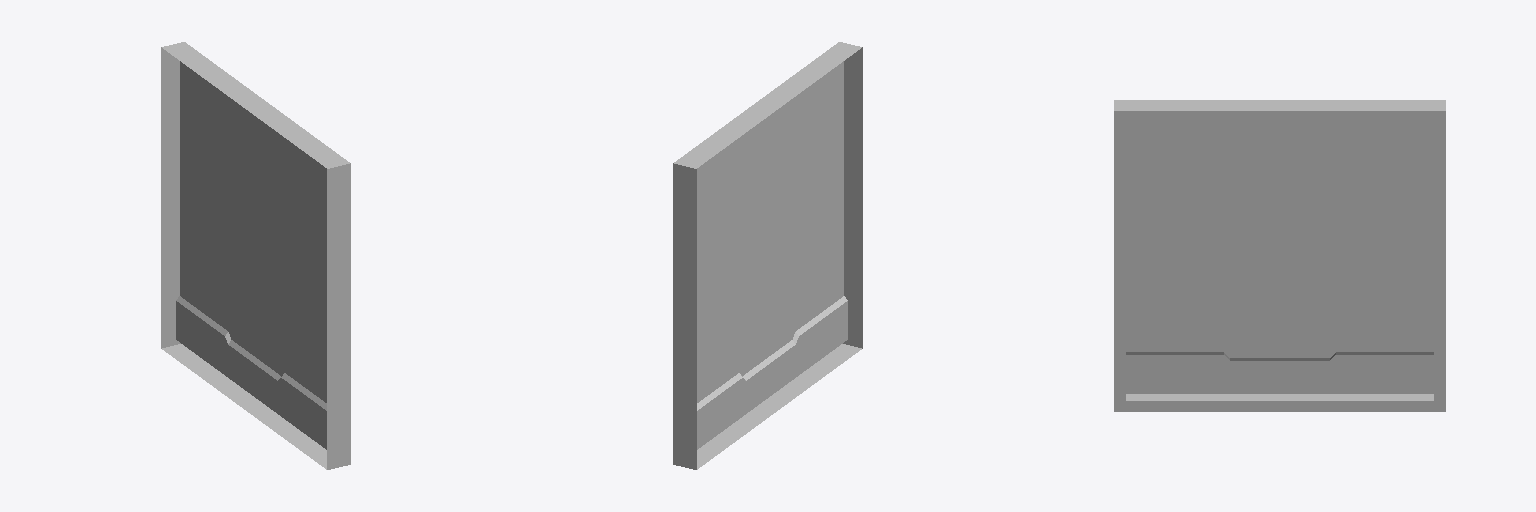
The model's file is Window_Low.obj.
3 renders of one model, left to right at view 1: azimuth 30°, elevation 25°; view 2: azimuth 150°, elevation 25°; view 3: azimuth 270°, elevation 25°, orthographic.
Parts seen in each view (by area): view 1: Low; view 2: Low; view 3: Low.
Part boxes in pixels (bbox=[...]): Low: bbox=[161, 42, 350, 469]; Low: bbox=[673, 42, 862, 469]; Low: bbox=[1114, 100, 1445, 411].
Bounding box in the file's own units: 0.2363 × 2.92 × 2.92.